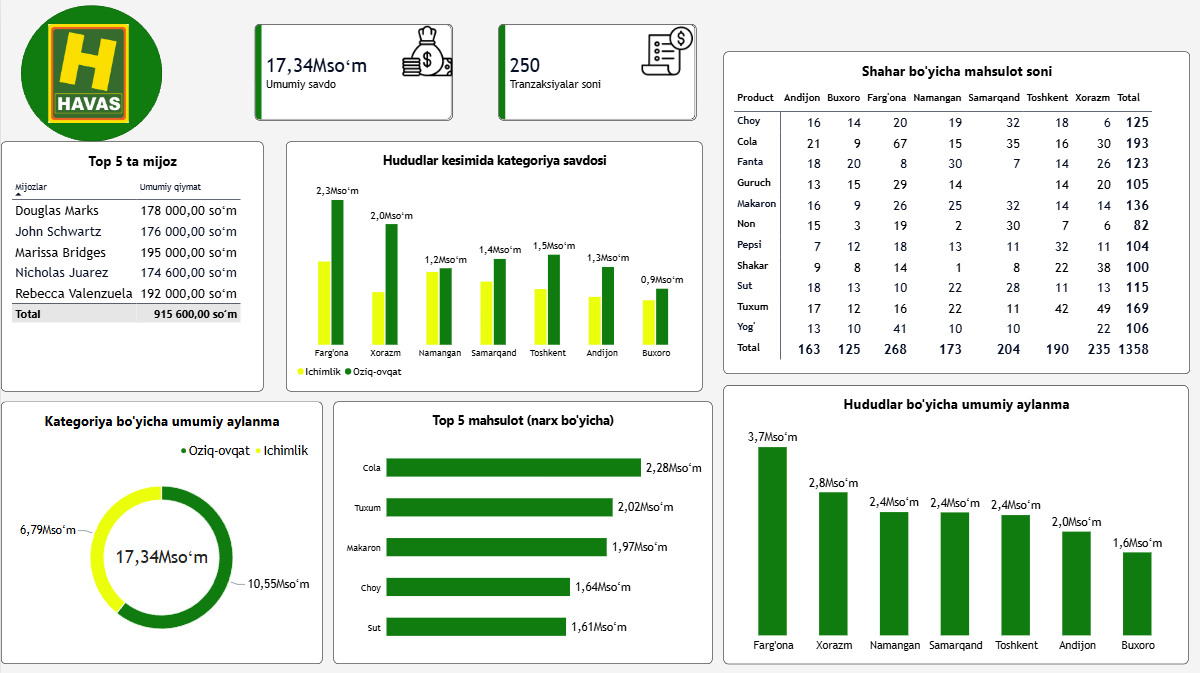

Layout of this report page (visuals, bound fields, positions):
{"tool":"powerbi","page":{"name":"Page 1","canvas":[1920,1080],"ordinal":0},"visuals":[{"type":"tableEx","title":"Top 5 ta mijoz ","fields":{"Values":["Havas.Customer","Sum(Havas.Amount)"]},"box":[0,228,420,400],"z":0},{"type":"columnChart","title":"Hududlar bo''yicha umumiy aylanma ","fields":{"Category":["Havas.Region"],"Y":["Sum(Havas.Amount)"]},"box":[1156,618,744,446],"z":1000},{"type":"donutChart","title":"Kategoriya bo''yicha umumiy aylanma","fields":{"Category":["Havas.Category"],"Y":["Sum(Havas.Amount)"]},"box":[0,644,514,420],"z":2000},{"type":"cardVisual","fields":{"Data":["Sum(Havas.Amount)"]},"box":[405,40,317,154.4],"z":3000},{"type":"image","box":[642,42,80.3,82.3],"z":4000},{"type":"shape","box":[32,10,226,218],"z":4500},{"type":"cardVisual","fields":{"Data":["CountNonNull(Havas.TransactionID)"]},"box":[796,40,317,154.4],"z":5000},{"type":"clusteredColumnChart","title":"Hududlar kesimida kategoriya savdosi","fields":{"Category":["Havas.Region"],"Series":["Havas.Category"],"Y":["Sum(Havas.Amount)"]},"box":[456,228,666,400],"z":6000},{"type":"pivotTable","title":"Shahar bo''yicha mahsulot soni ","fields":{"Columns":["Havas.Region"],"Rows":["Havas.Product"],"Values":["Sum(Havas.Quantity)"]},"box":[1156,84,746,516],"z":7000},{"type":"image","box":[1020,42,92,82],"z":8000},{"type":"image","box":[22,40,236,158],"z":10000},{"type":"clusteredBarChart","title":"Top 5 mahsulot (narx bo''yicha)","fields":{"Category":["Havas.Product"],"Y":["Sum(Havas.Amount)"]},"box":[532,644,606,420],"z":10001}]}

Visuals, with their boxes in screenshot pixels (x1, y1, x2, y2), scaled from the page's 1920x1080 canvas onto the 1200x673 screenshot:
"Top 5 ta mijoz " tableEx: <box>0,142,262,391</box>
"Hududlar bo''yicha umumiy aylanma " columnChart: <box>722,385,1188,663</box>
"Kategoriya bo''yicha umumiy aylanma" donutChart: <box>0,401,321,663</box>
cardVisual - Sum(Havas.Amount): <box>253,25,451,121</box>
image: <box>401,26,451,77</box>
shape: <box>20,6,161,142</box>
cardVisual - CountNonNull(Havas.TransactionID): <box>498,25,696,121</box>
"Hududlar kesimida kategoriya savdosi" clusteredColumnChart: <box>285,142,701,391</box>
"Shahar bo''yicha mahsulot soni " pivotTable: <box>722,52,1189,374</box>
image: <box>638,26,695,77</box>
image: <box>14,25,161,123</box>
"Top 5 mahsulot (narx bo''yicha)" clusteredBarChart: <box>332,401,711,663</box>
